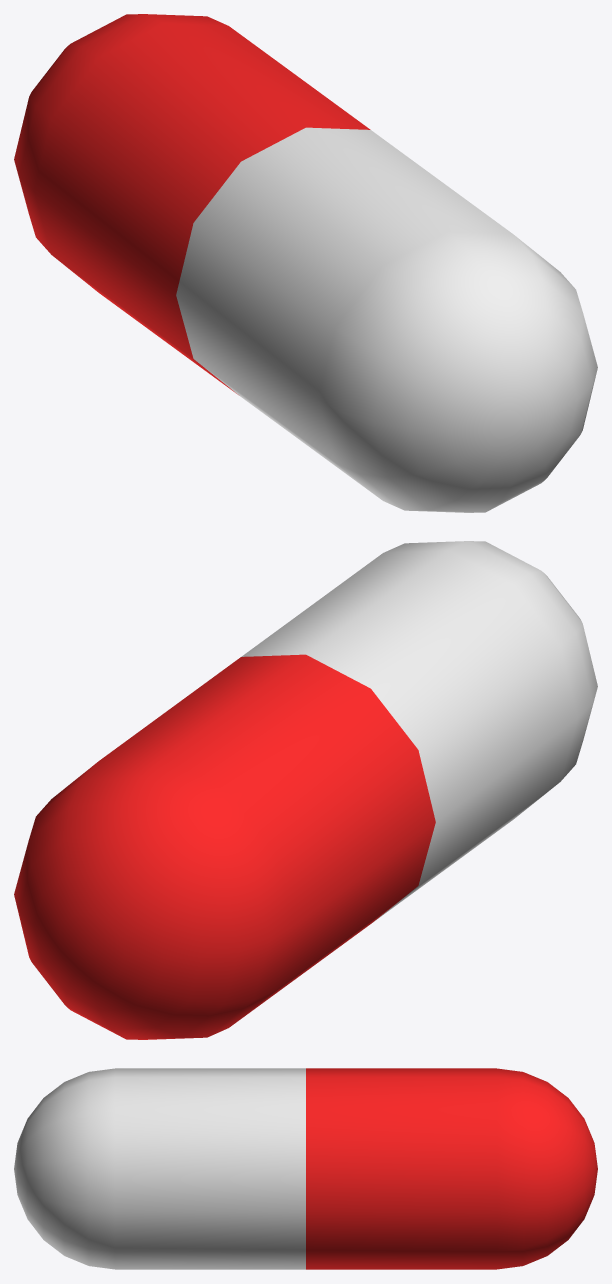
Rendered from Pillule_Rouge.fbx.
3 renders of one model, top to bottom at view 1: azimuth 30°, elevation 25°; view 2: azimuth 150°, elevation 25°; view 3: azimuth 270°, elevation 25°, orthographic. The views are drawn at different scales.
Visible parts, largest first — view 1: Pillule_Rouge; view 2: Pillule_Rouge; view 3: Pillule_Rouge.
Part boxes in pixels (x1=…): Pillule_Rouge: x1=14, y1=14, x2=597, y2=512; Pillule_Rouge: x1=14, y1=541, x2=597, y2=1039; Pillule_Rouge: x1=14, y1=1068, x2=597, y2=1269.
Size of the model in its own units: 1.13 by 1.13 by 3.27.
